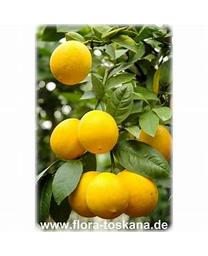lemon: (85, 174, 131, 219), (120, 166, 160, 217), (50, 41, 93, 86), (79, 111, 118, 154), (50, 118, 88, 159)
